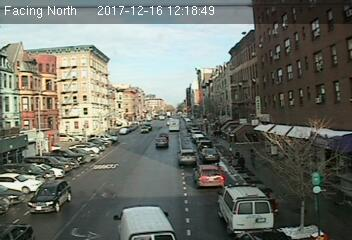car: (26, 179, 74, 215), (192, 164, 226, 190), (177, 147, 198, 167), (200, 146, 219, 162), (155, 136, 168, 149)
police: (217, 182, 273, 232)
